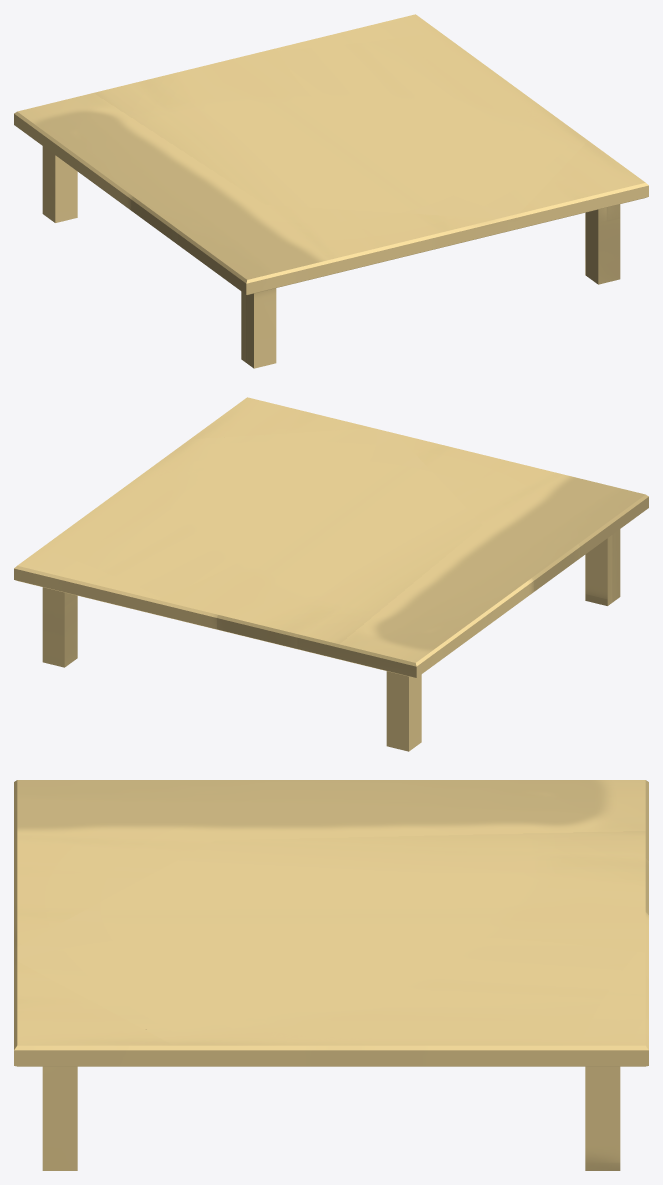
File: table.obj
3 views of the same model, one above another, from view 1: azimuth 30°, elevation 25°; view 2: azimuth 150°, elevation 25°; view 3: azimuth 270°, elevation 25° (orthographic). The views are drawn at different scales.
Size of the model in its own units: 50 by 11.81 by 50.
